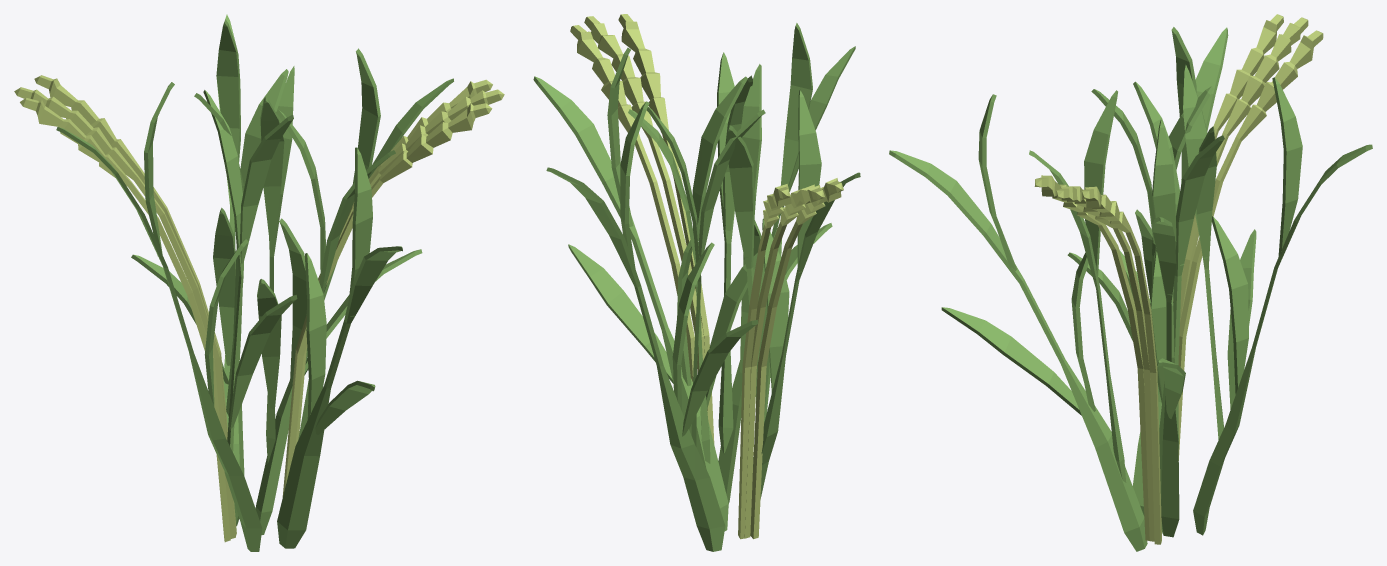
Rendered from Rice_4.glb.
3 renders of one model, left to right at view 1: azimuth 30°, elevation 25°; view 2: azimuth 150°, elevation 25°; view 3: azimuth 270°, elevation 25°, orthographic.
Visible parts, largest first — view 1: Rice_4; view 2: Rice_4; view 3: Rice_4.
Part boxes in pixels (bbox=[...]): Rice_4: bbox=[14, 14, 504, 551]; Rice_4: bbox=[533, 14, 860, 551]; Rice_4: bbox=[889, 14, 1372, 551].
Bounding box in the file's own units: 0.7786 × 0.9535 × 0.8808.
